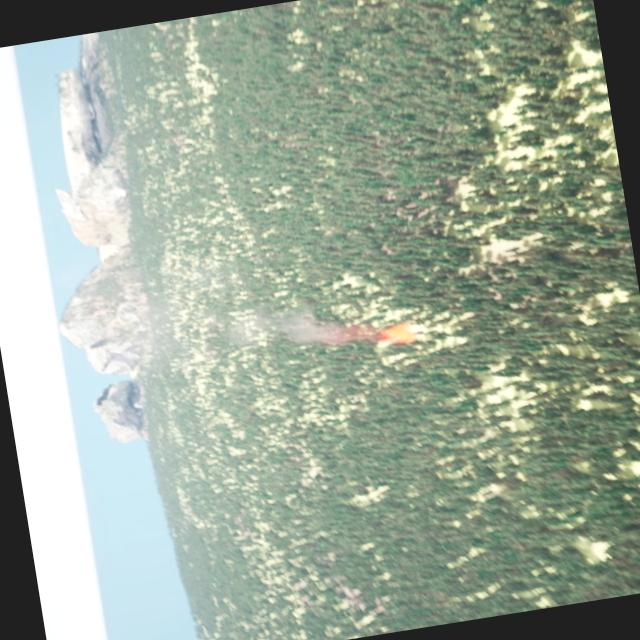fire: (379, 320, 414, 348)
smoke: (271, 304, 378, 354)
